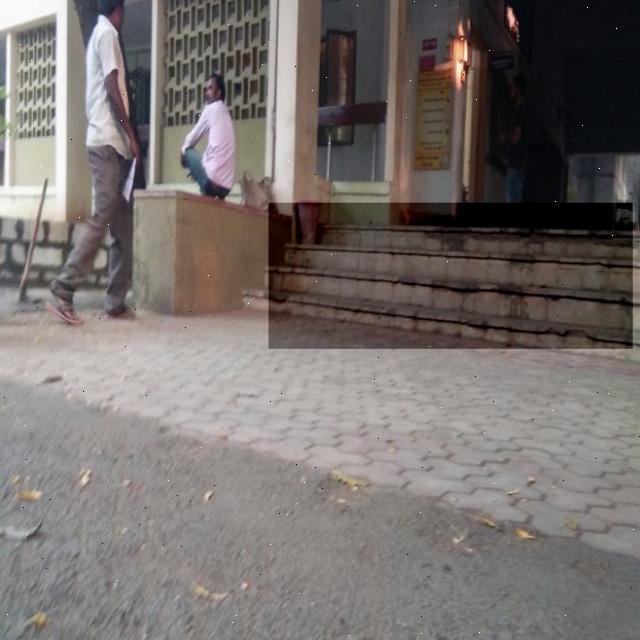stair: (269, 203, 633, 349)
